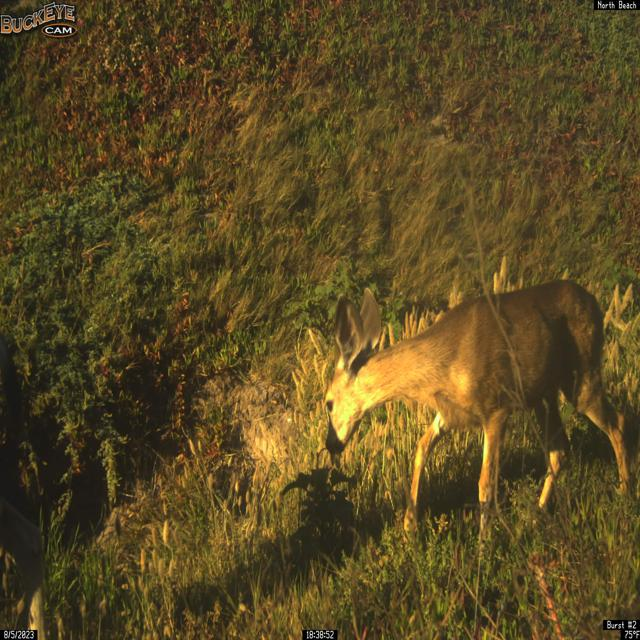deer: (324, 278, 634, 548)
